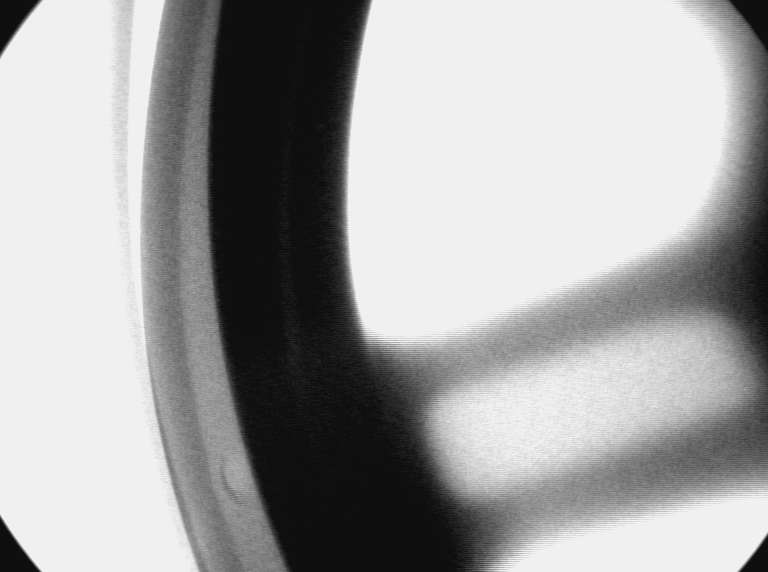defect: (220, 448, 266, 507)
